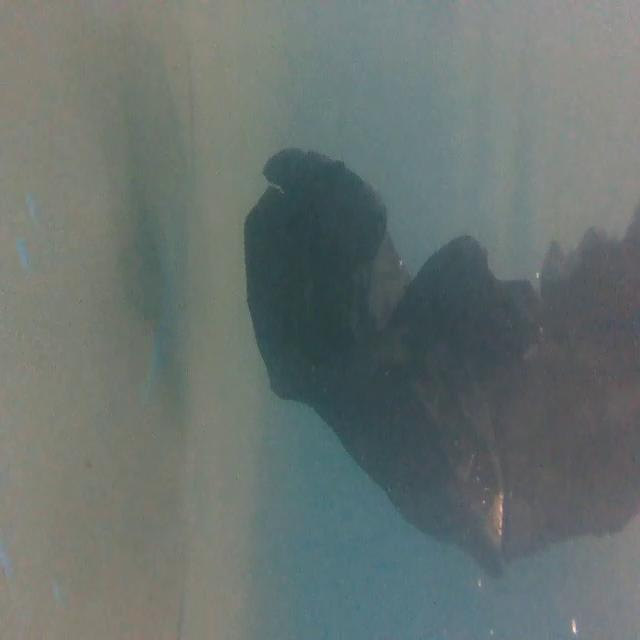plastic bags: (239, 145, 640, 579)
